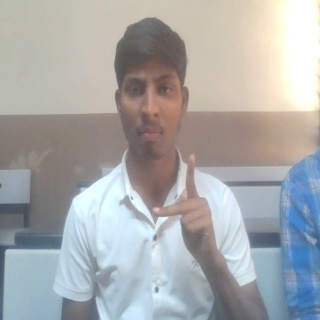Face: (114, 15, 189, 163)
Okay: (150, 152, 223, 272)
